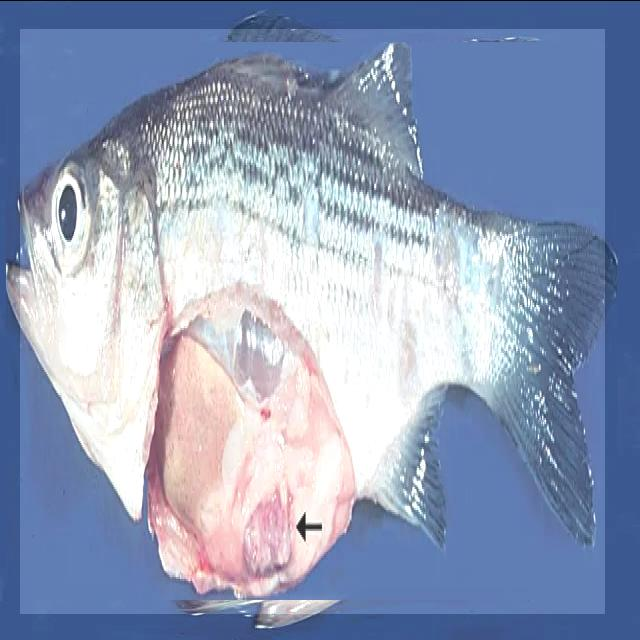EUS Disease: (20, 28, 605, 613)
